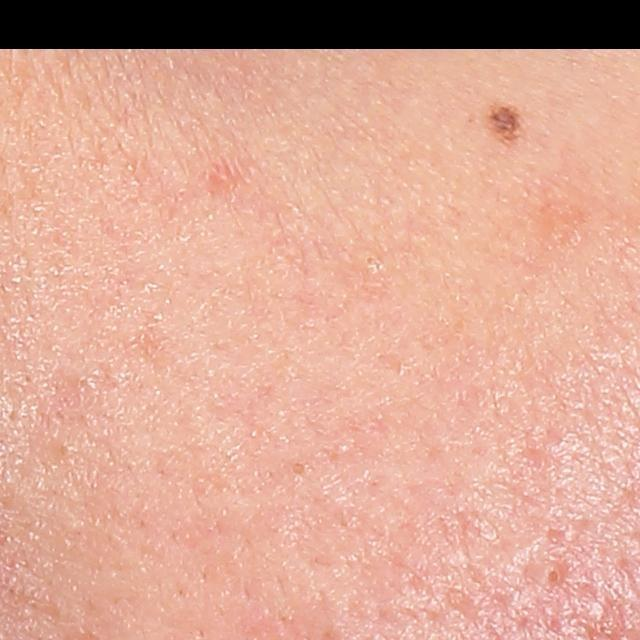comedo: (522, 557, 573, 593)
nevus: (484, 103, 528, 149)
